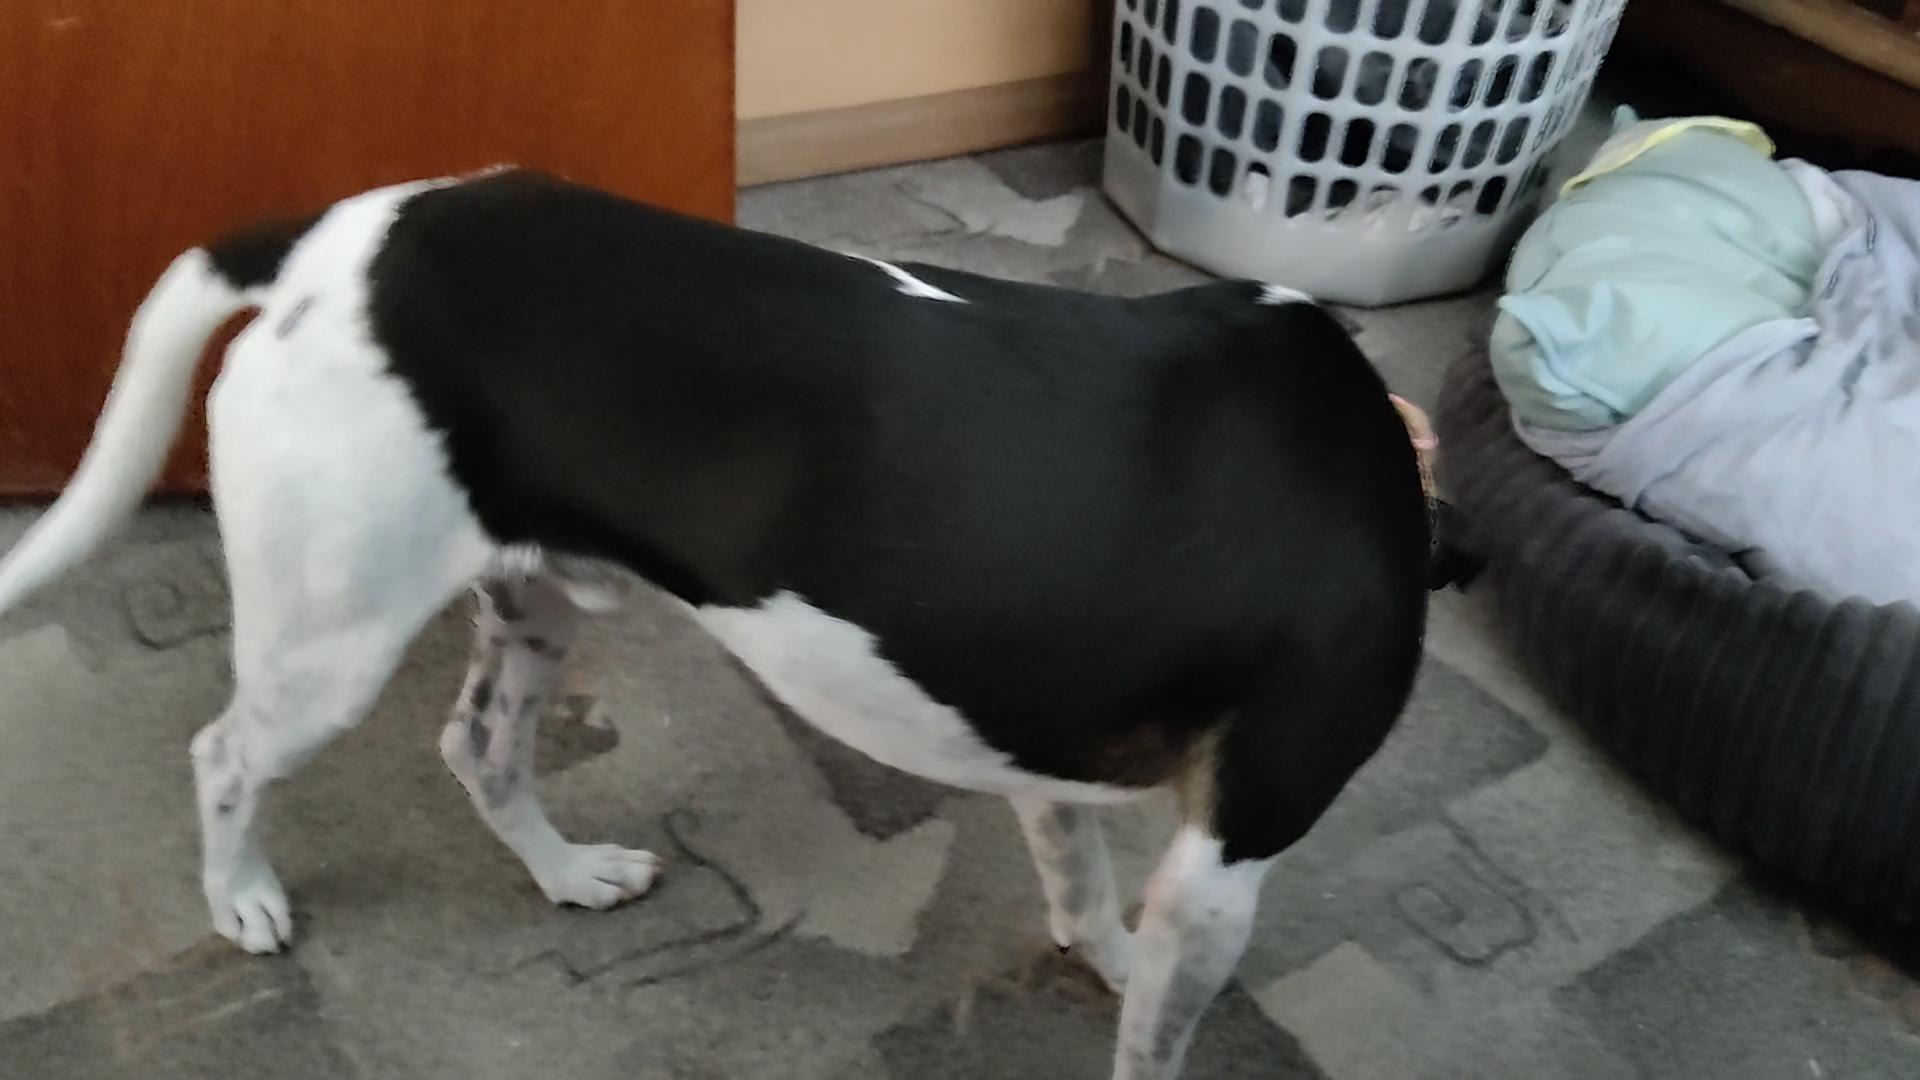Dog: (0, 154, 1507, 1079)
